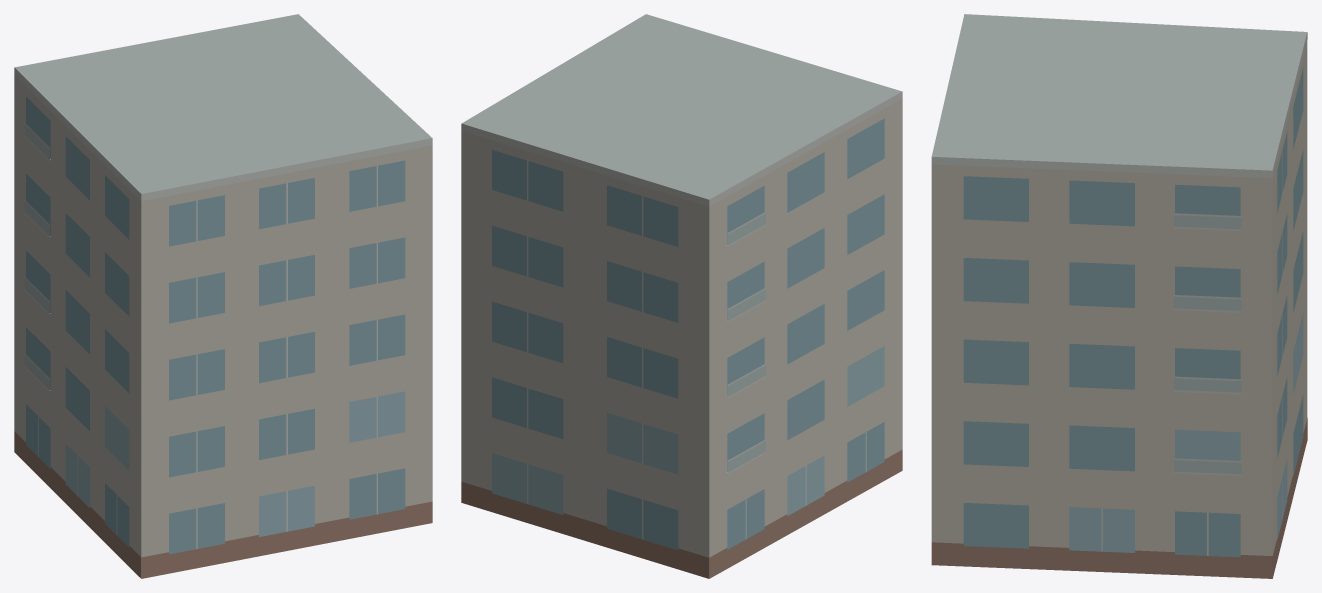
Rendered from survey-upis-32970836.glb.
The picture shows the model from 3 angles, left to right: view 1: azimuth 30°, elevation 25°; view 2: azimuth 150°, elevation 25°; view 3: azimuth 270°, elevation 25°; orthographic projection. The views are drawn at different scales.
Parts seen in each view (by area): view 1: survey-upis-32970836.tmp; view 2: survey-upis-32970836.tmp; view 3: survey-upis-32970836.tmp.
Part boxes in pixels (x1,y1,x2,y2): survey-upis-32970836.tmp: [14, 14, 432, 578]; survey-upis-32970836.tmp: [461, 14, 902, 578]; survey-upis-32970836.tmp: [931, 14, 1307, 578].
Bounding box in the file's own units: 10.86 × 13.2 × 11.02.
